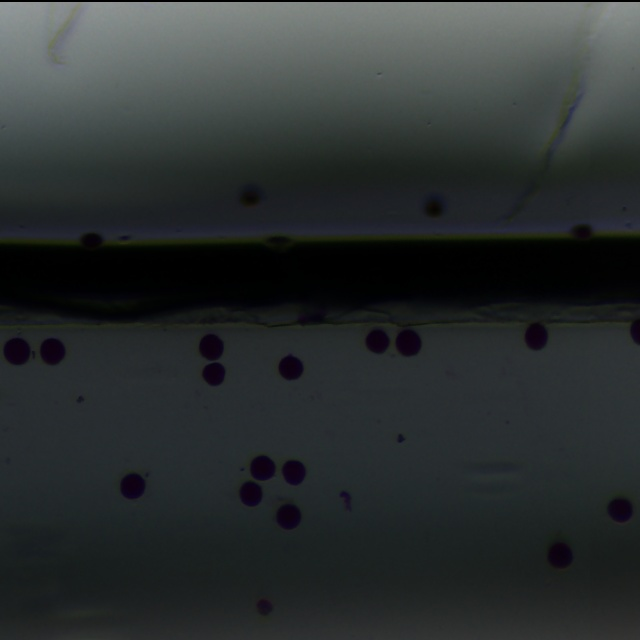viable: (4, 338, 30, 365), (396, 330, 421, 356), (548, 543, 573, 568), (41, 338, 65, 364), (279, 355, 303, 380), (276, 505, 301, 529), (608, 499, 633, 523), (251, 456, 275, 480), (121, 474, 145, 498), (525, 324, 547, 350), (200, 335, 223, 359), (366, 330, 389, 353), (283, 461, 305, 485), (240, 482, 261, 506), (203, 364, 225, 385), (631, 320, 639, 343)
